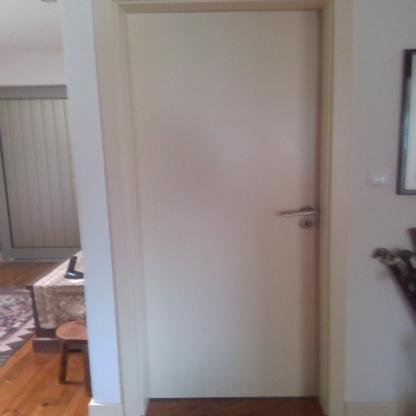closed: (106, 0, 354, 416)
